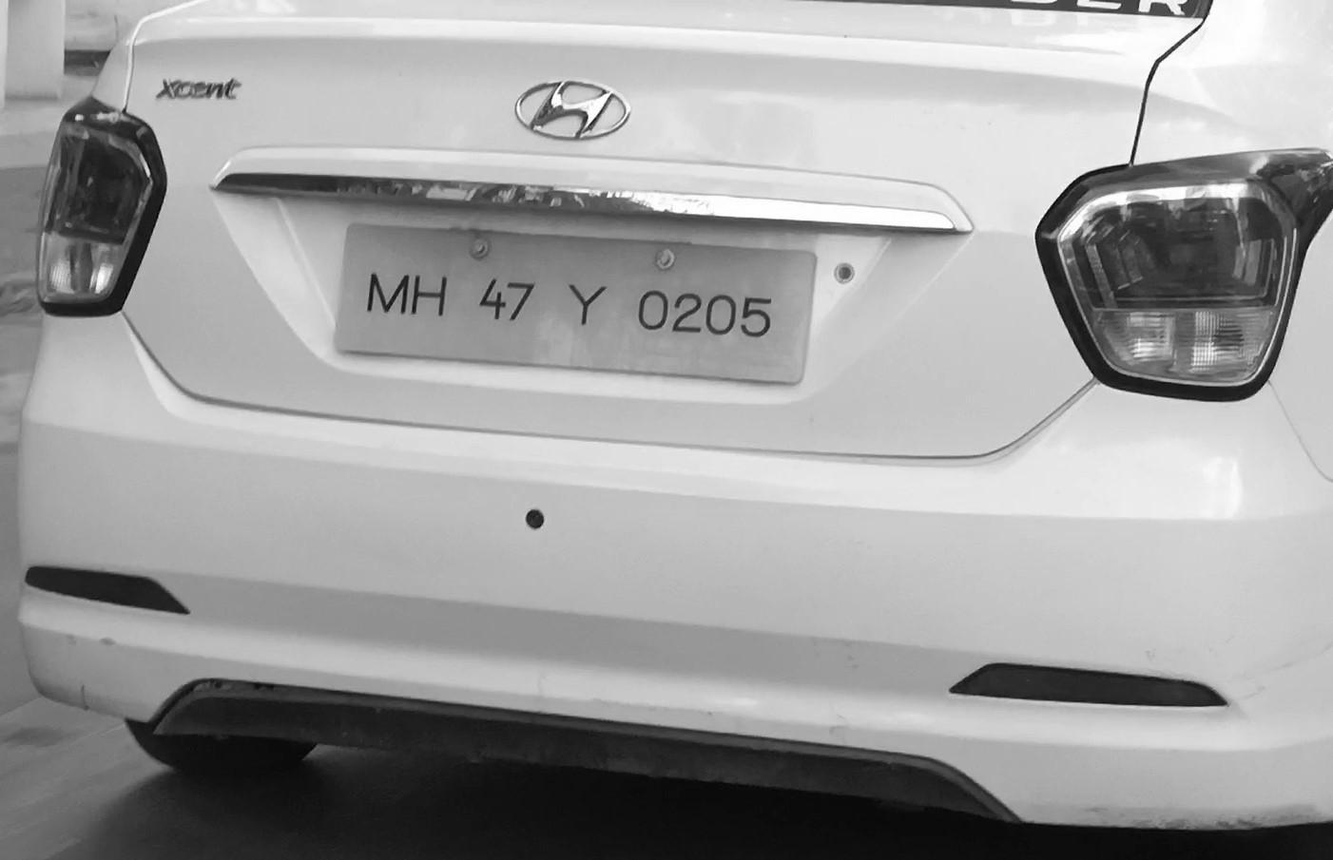number_plate: (341, 240, 808, 378)
